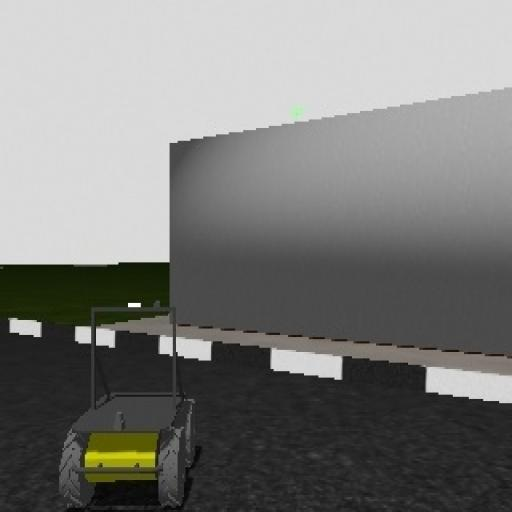huskya200: (61, 294, 203, 512)
